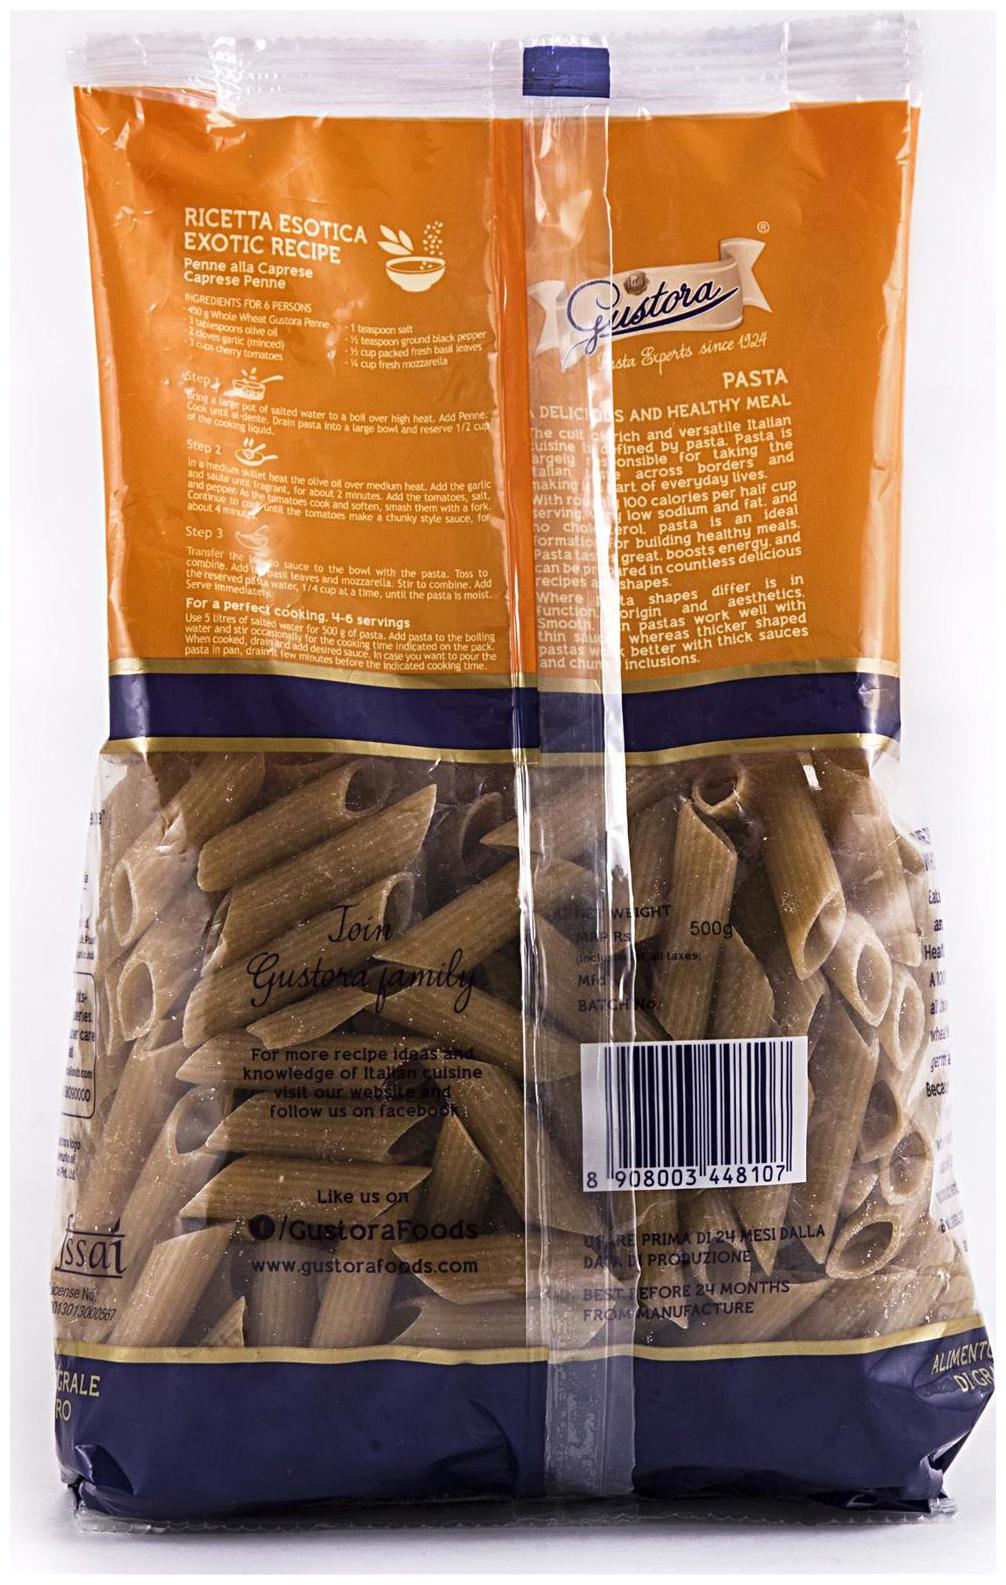fsaai: (54, 1212, 128, 1281)
